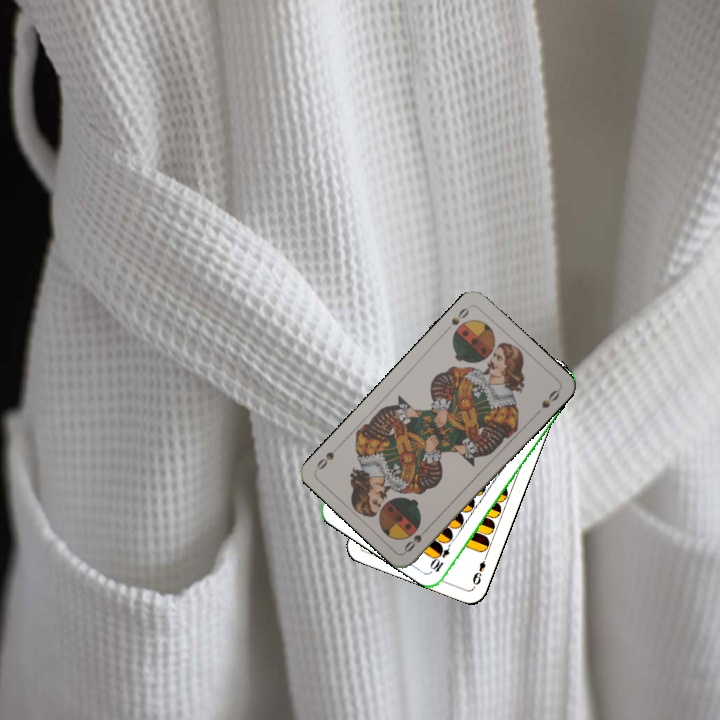E10: (427, 536, 455, 575)
E9: (468, 550, 490, 588)
SO: (400, 522, 432, 555), (441, 303, 472, 334)
